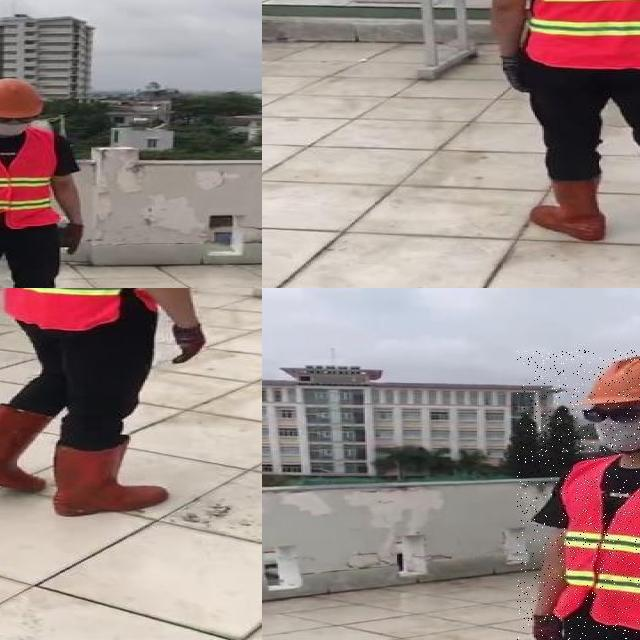boots: (53, 439, 168, 519), (528, 178, 608, 242), (0, 405, 49, 493)
face_mask: (0, 113, 34, 137)
glasses: (0, 112, 35, 125)
hand_glove: (170, 326, 204, 366), (498, 55, 528, 94), (61, 224, 84, 255)
head_helmet: (577, 350, 640, 408), (0, 77, 45, 120)
person: (0, 288, 211, 516), (476, 0, 640, 275), (517, 351, 640, 640), (0, 70, 96, 288)
vest: (555, 453, 640, 629), (522, 0, 640, 67), (0, 129, 62, 228), (0, 288, 137, 331)
